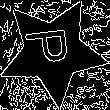P_E: (26, 30, 80, 73)
